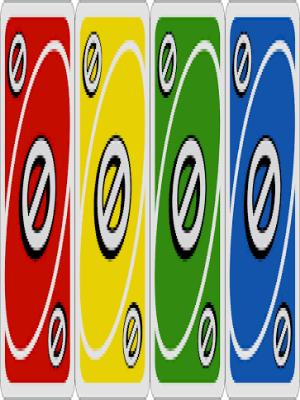blue: (227, 5, 299, 400)
green: (152, 5, 224, 397)
skip: (81, 22, 104, 104), (4, 21, 28, 98), (232, 29, 255, 103), (157, 27, 178, 103)
yellow: (77, 0, 149, 394)
